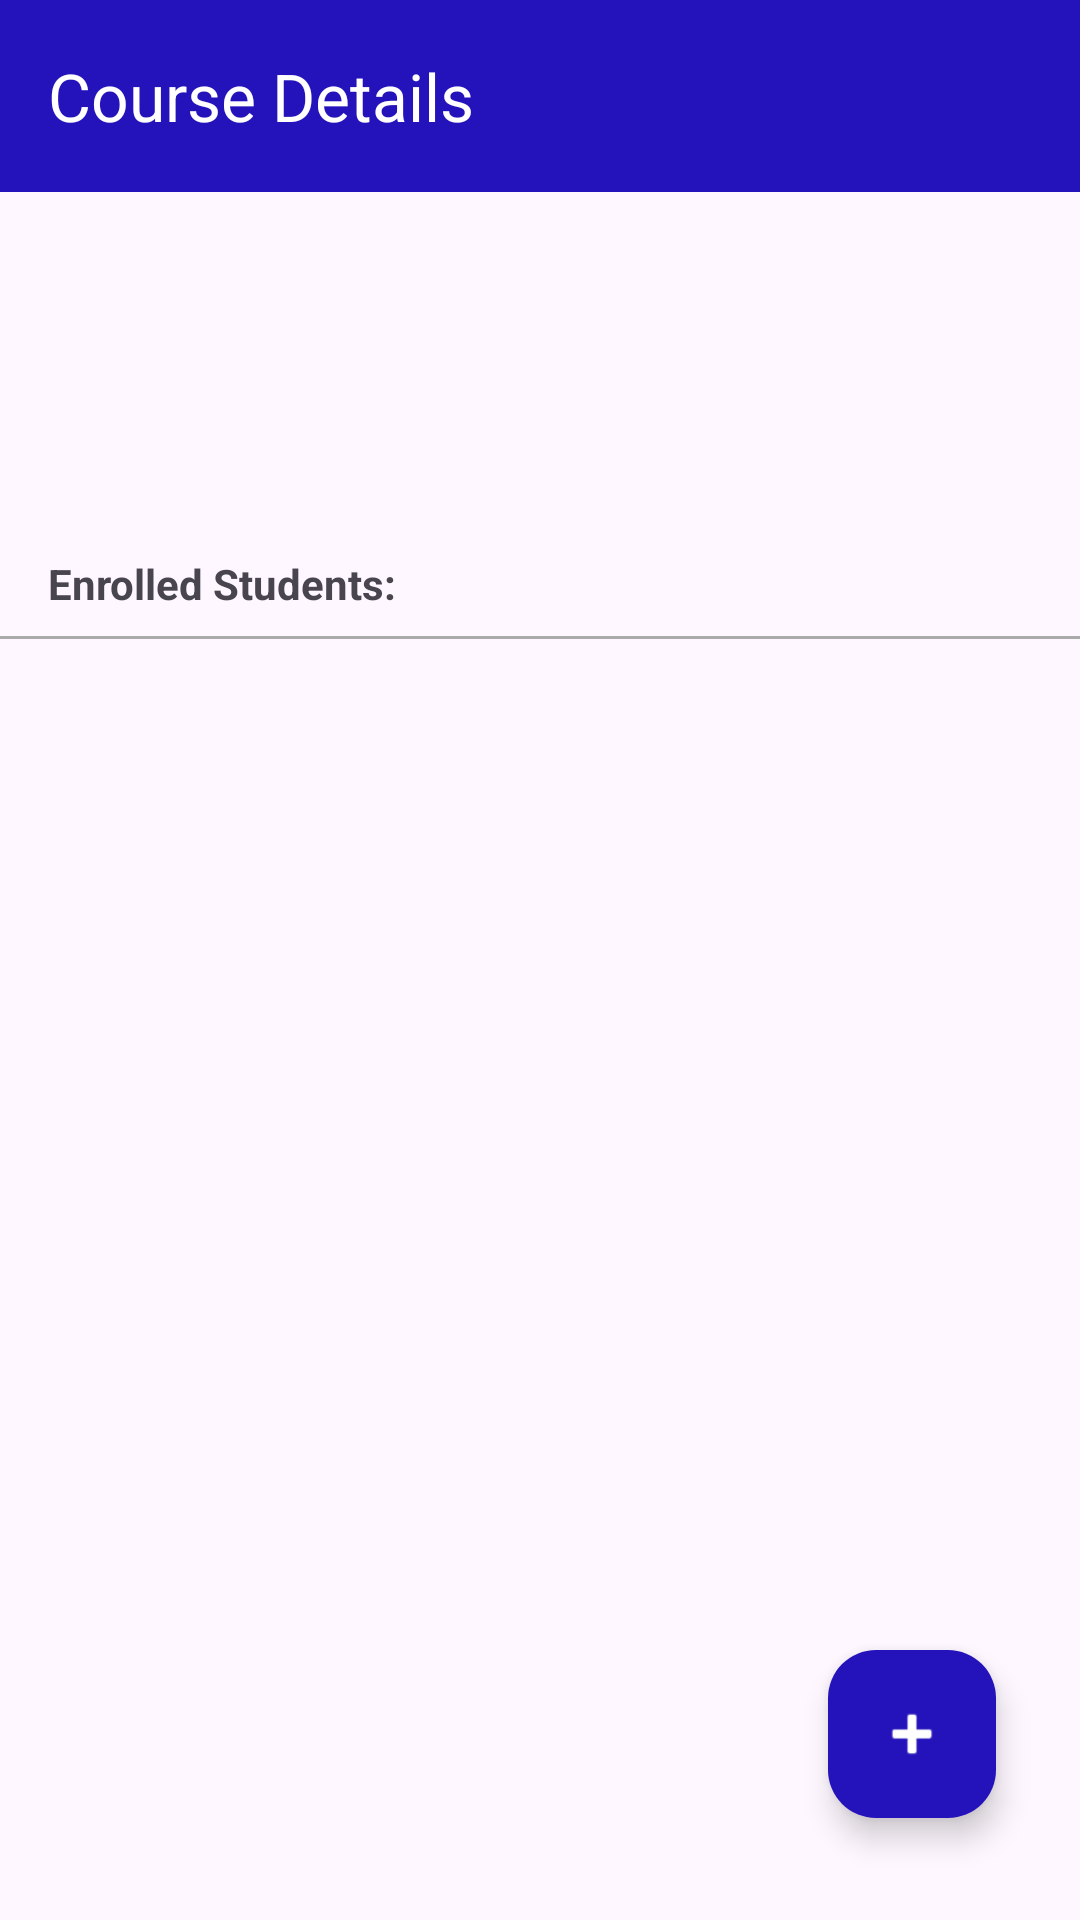

Named icons in this screenshot (1080w x 1920h) and their centers, (x=x, y=y):
Add Student: (x=913, y=1742)
